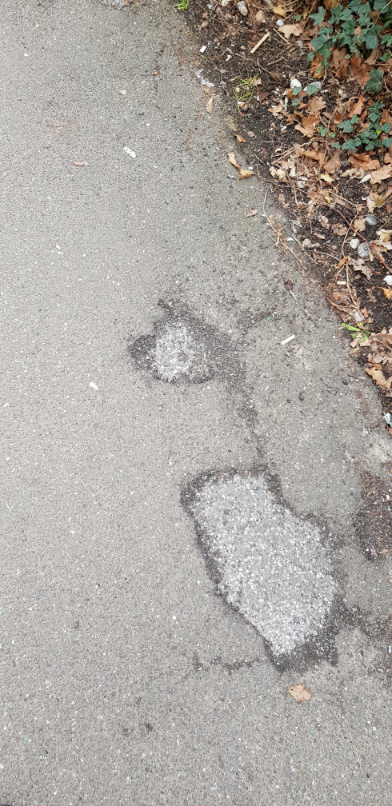pothole: (180, 462, 350, 677), (128, 301, 234, 386)
